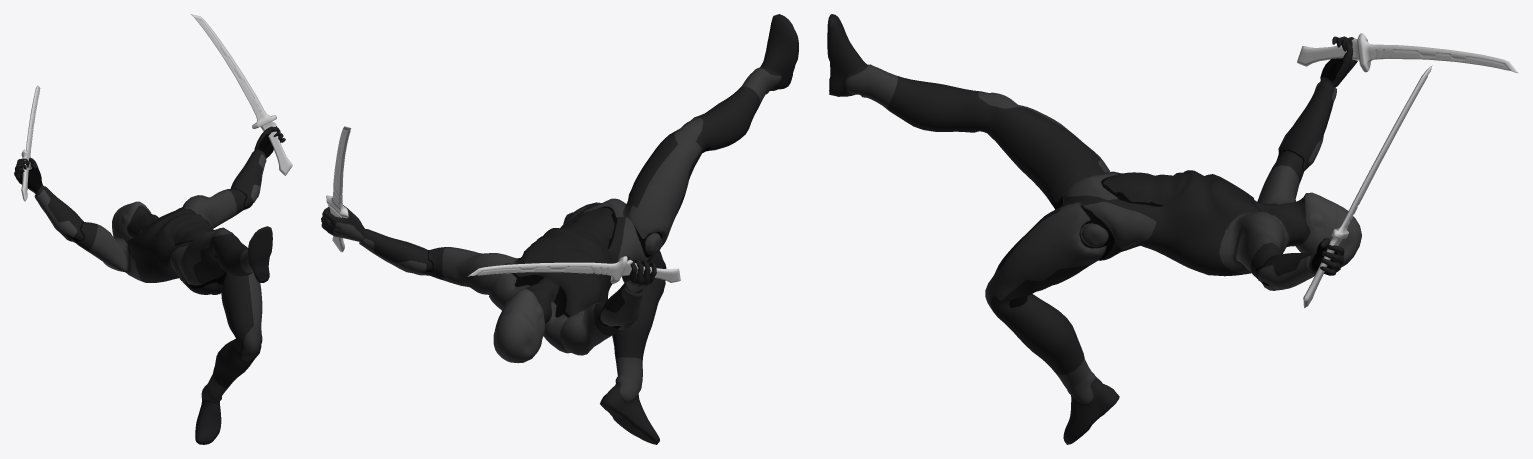
3 renders of one model, left to right at view 1: azimuth 30°, elevation 25°; view 2: azimuth 150°, elevation 25°; view 3: azimuth 270°, elevation 25°, orthographic. The views are drawn at different scales.
Parts seen in each view (by area): view 1: Cyborg_Ninja_Killer, Sword_l, Sword_l001; view 2: Cyborg_Ninja_Killer, Sword_l001, Sword_l; view 3: Cyborg_Ninja_Killer, Sword_l001, Sword_l.
Part boxes in pixels (x1=…): Cyborg_Ninja_Killer: x1=14, y1=126, x2=285, y2=444; Sword_l: x1=191, y1=14, x2=292, y2=175; Sword_l001: x1=21, y1=85, x2=40, y2=201; Cyborg_Ninja_Killer: x1=321, y1=14, x2=798, y2=444; Sword_l001: x1=468, y1=256, x2=680, y2=283; Sword_l: x1=326, y1=126, x2=351, y2=252; Cyborg_Ninja_Killer: x1=827, y1=14, x2=1361, y2=444; Sword_l001: x1=1296, y1=33, x2=1518, y2=73; Sword_l: x1=1303, y1=65, x2=1432, y2=308.
Bounding box in the file's own units: 148 × 162 × 223.
